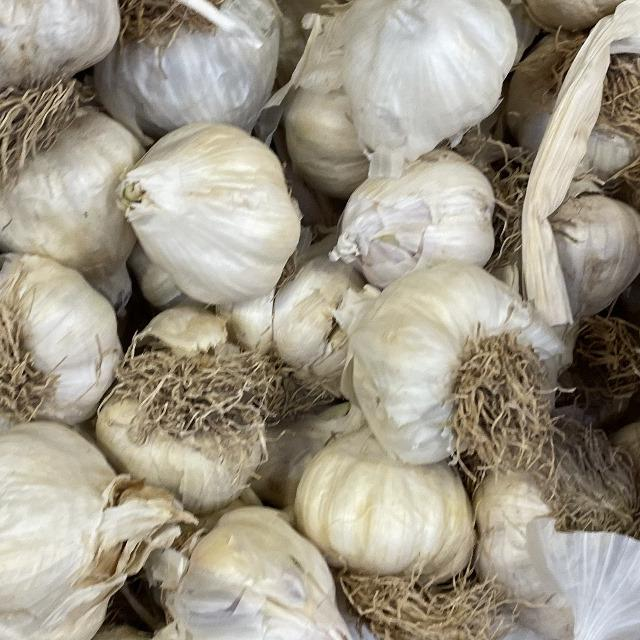garlic: (318, 248, 592, 495), (287, 0, 547, 180), (100, 115, 318, 315), (0, 405, 185, 632)
